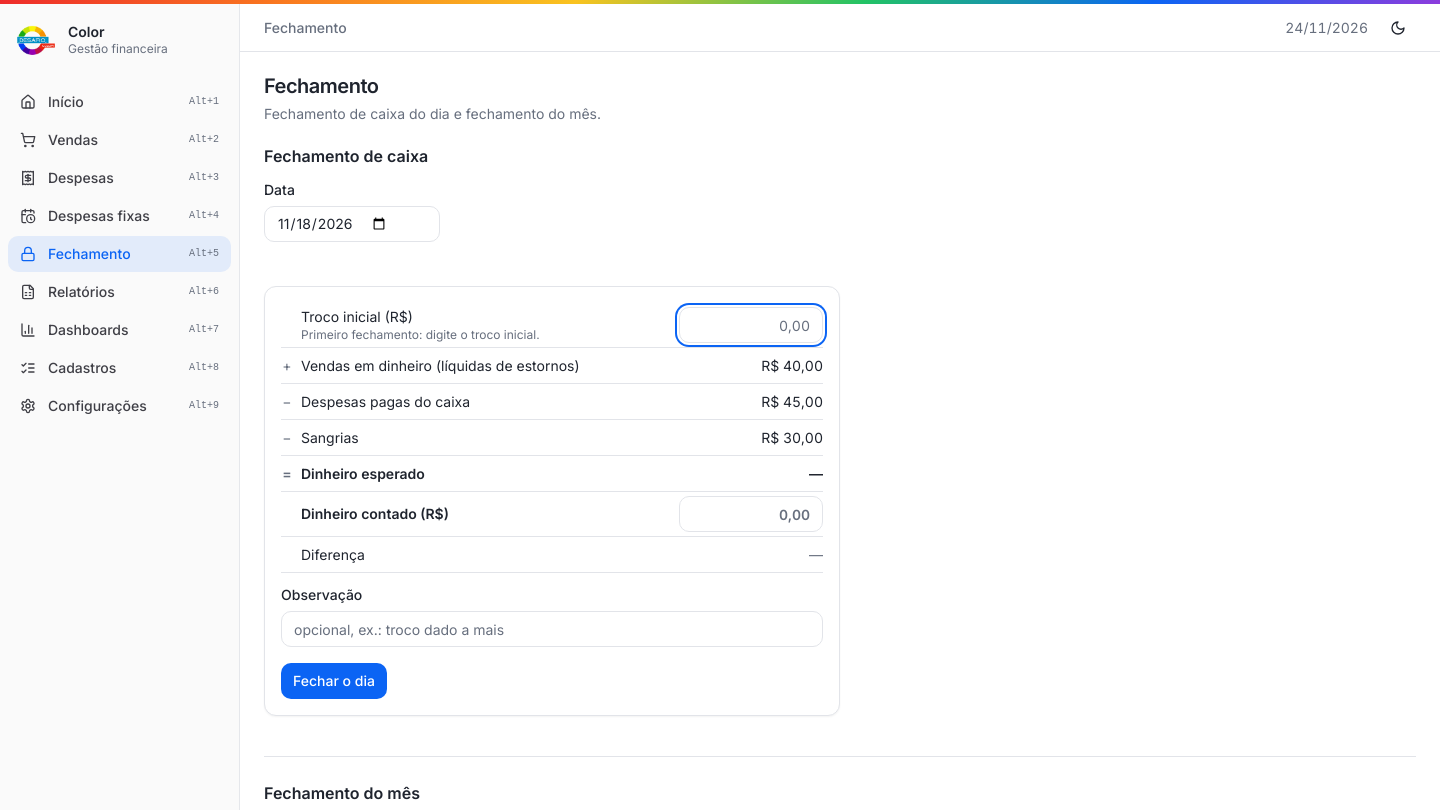
Test: FR-08: close the day (Fechamento page) › FR-08: first day of use: the opening cash starts empty and must be typed
Expected: the form named "Fechar o dia" is shown, [281,303,823,699]
Expected: the field labelled "Troco inicial (R$)" is empty, [679,307,823,343]
Type "90,00" into the field labelled "Dinheiro contado (R$)".
click(751, 514); type("90,00")  # box [679,496,823,532]
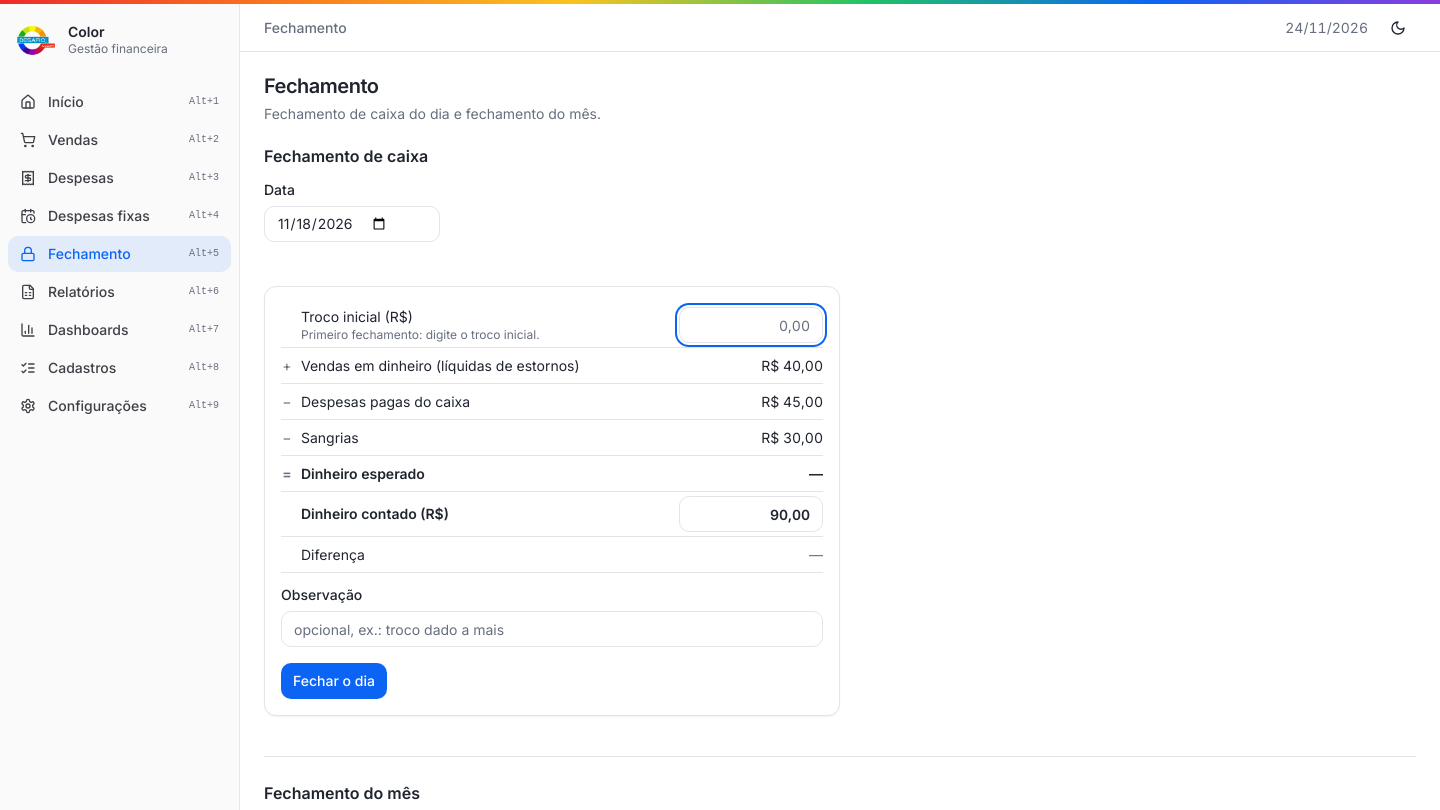
Submit the form named "Fechar o dia", box [281,303,823,699]
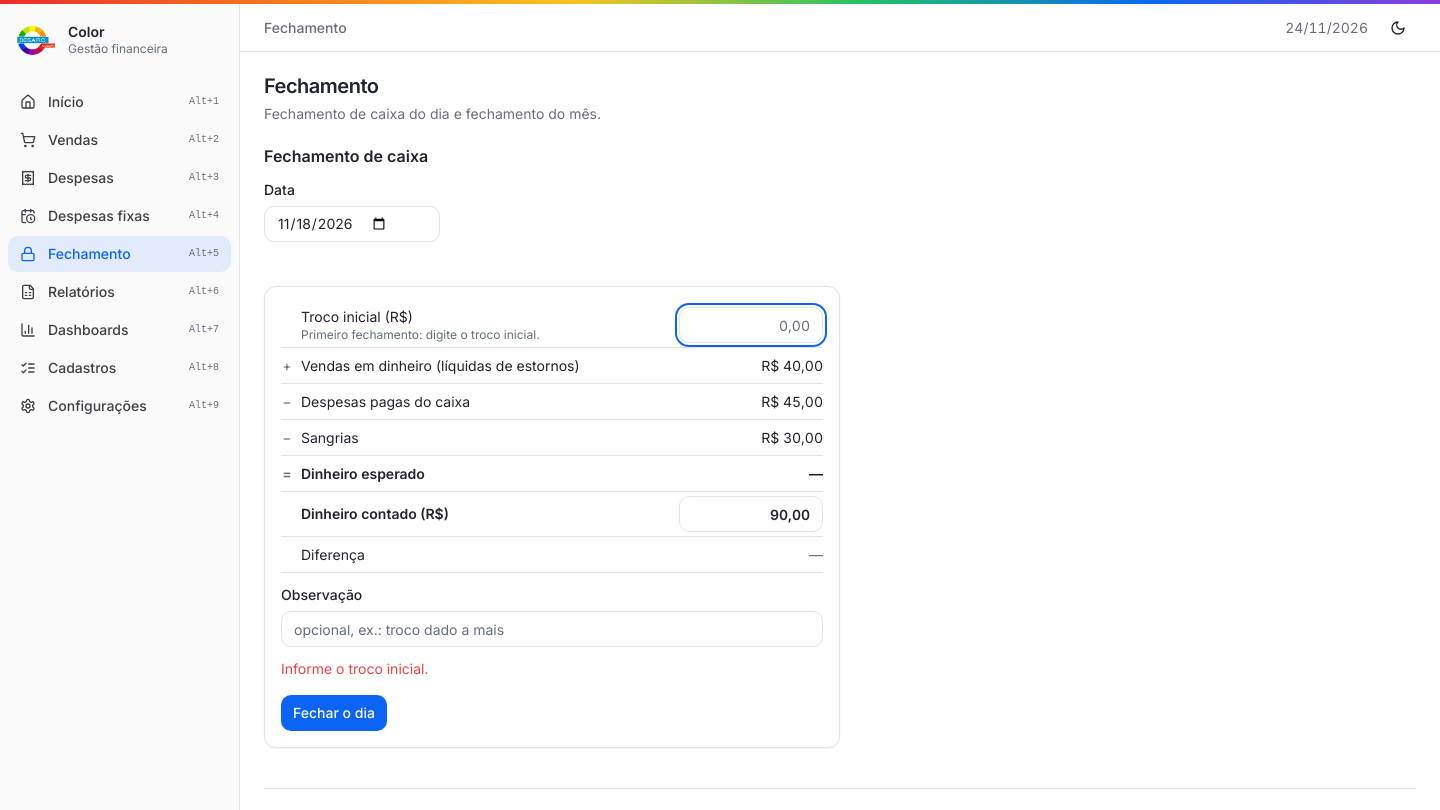
Expected: the message "Informe o troco inicial." is shown, [281,660,428,677]
